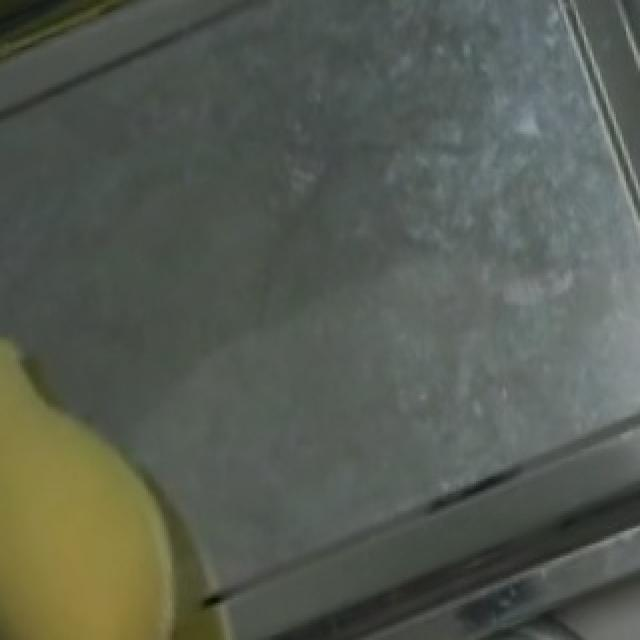fruit: (0, 317, 258, 640)
